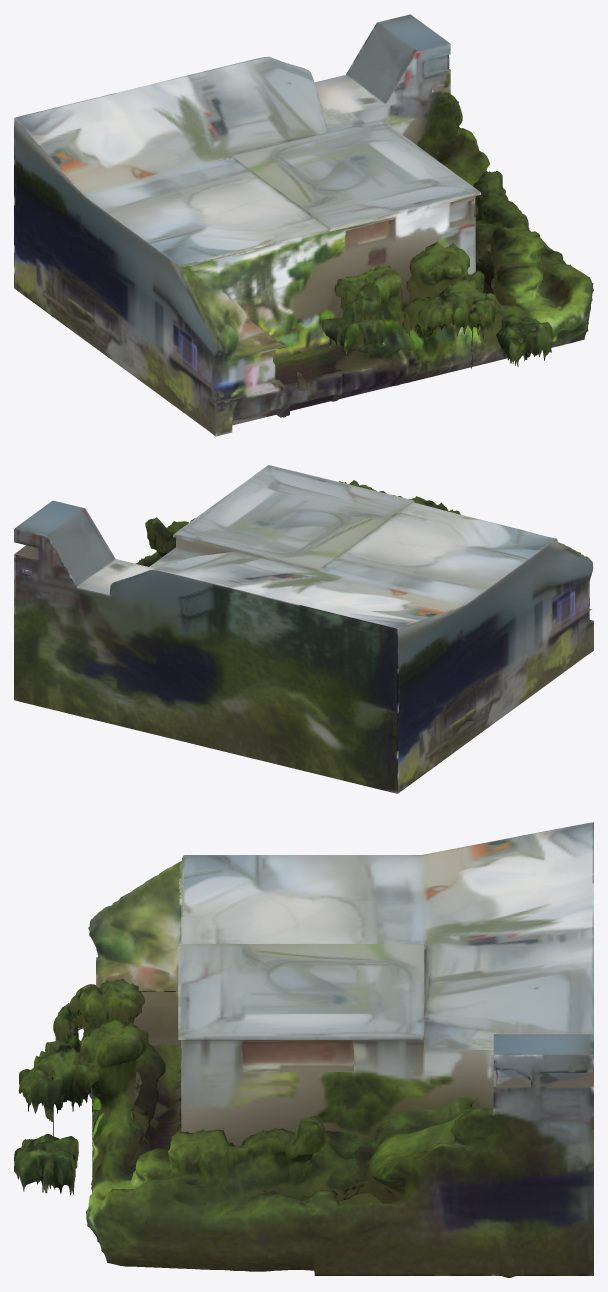
Rendered from base_basic_shaded.fbx.
3 renders of one model, top to bottom at view 1: azimuth 30°, elevation 25°; view 2: azimuth 150°, elevation 25°; view 3: azimuth 270°, elevation 25°, orthographic. The views are drawn at different scales.
Parts seen in each view (by area): view 1: model; view 2: model; view 3: model.
Part boxes in pixels (x1,y1,x2,y2): model: [14, 14, 593, 436]; model: [14, 465, 593, 793]; model: [14, 822, 593, 1277].
Bounding box in the file's own units: 190 × 80.42 × 191.
